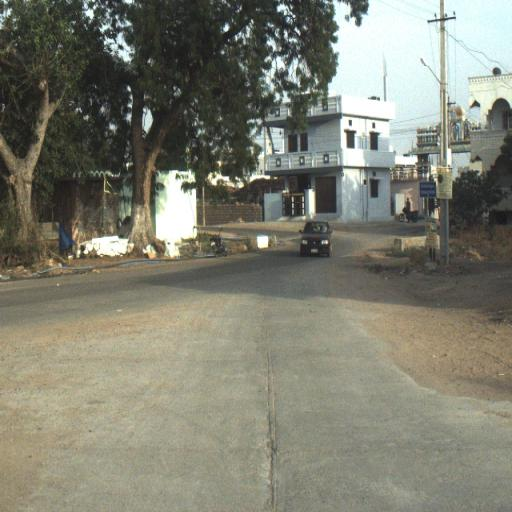street_light_0: (420, 56, 448, 100)
